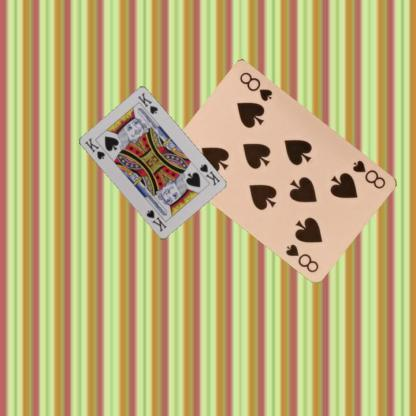8s: (350, 157, 387, 190)
Ks: (82, 135, 106, 161), (197, 161, 221, 187)
